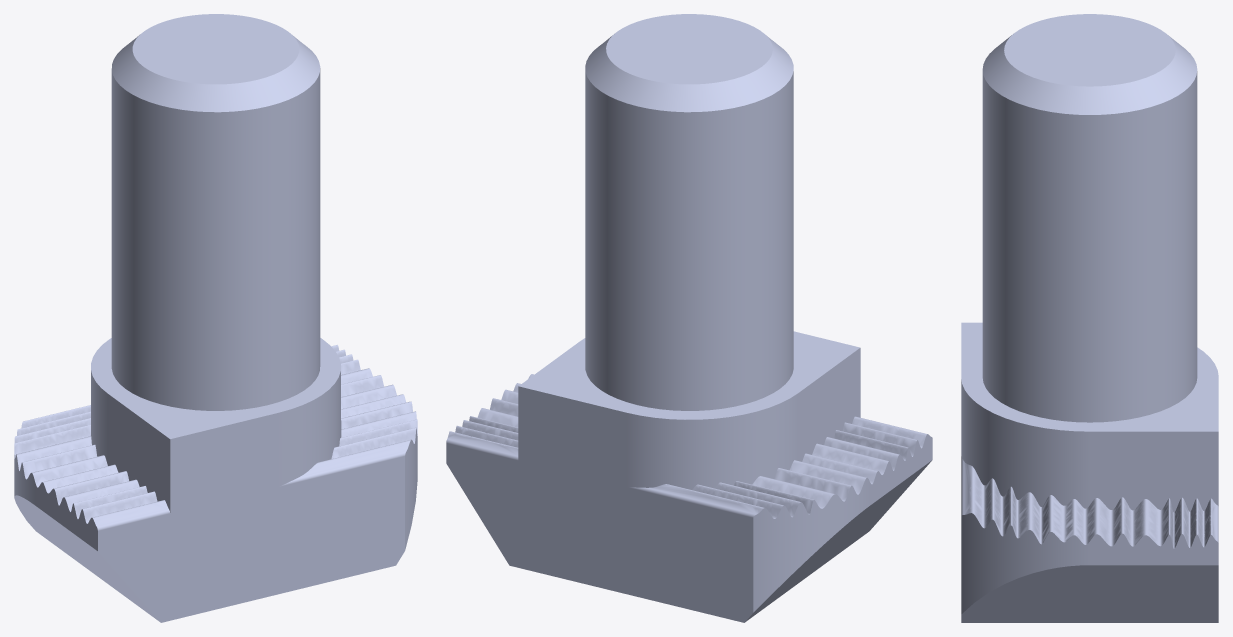
File: TPBT-G-M5-L10.glb
3 renders of one model, left to right at view 1: azimuth 30°, elevation 25°; view 2: azimuth 150°, elevation 25°; view 3: azimuth 270°, elevation 25°, orthographic. The views are drawn at different scales.
Visible parts, largest first — view 1: TPBT-G-M5-L10; view 2: TPBT-G-M5-L10; view 3: TPBT-G-M5-L10.
Boxes of the visible parts, x1,y1,x2,y2 form: TPBT-G-M5-L10: (14, 14, 417, 622); TPBT-G-M5-L10: (446, 14, 932, 622); TPBT-G-M5-L10: (961, 14, 1218, 622).
Size of the model in its own units: 0.01 by 0.0132 by 0.006.
